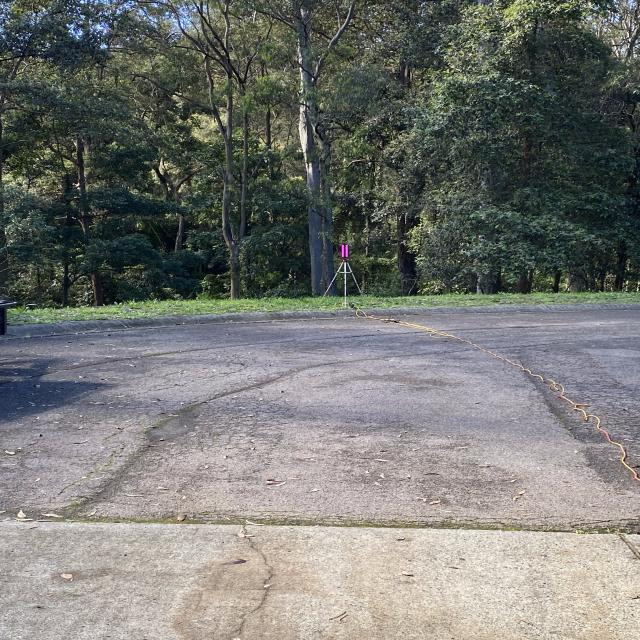matrix: (340, 244, 350, 258)
